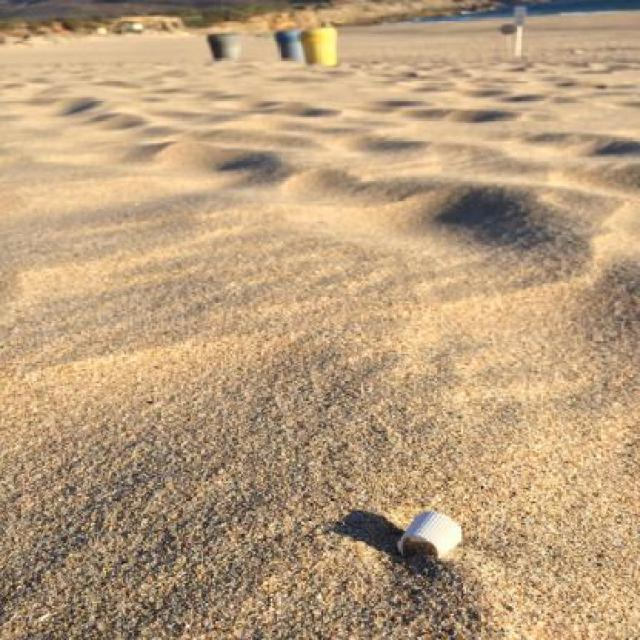plastic: (396, 511, 462, 564)
